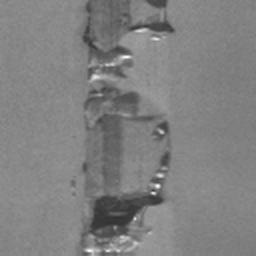Slag inclusion: (79, 0, 177, 256), (148, 35, 160, 42), (68, 178, 76, 188)
